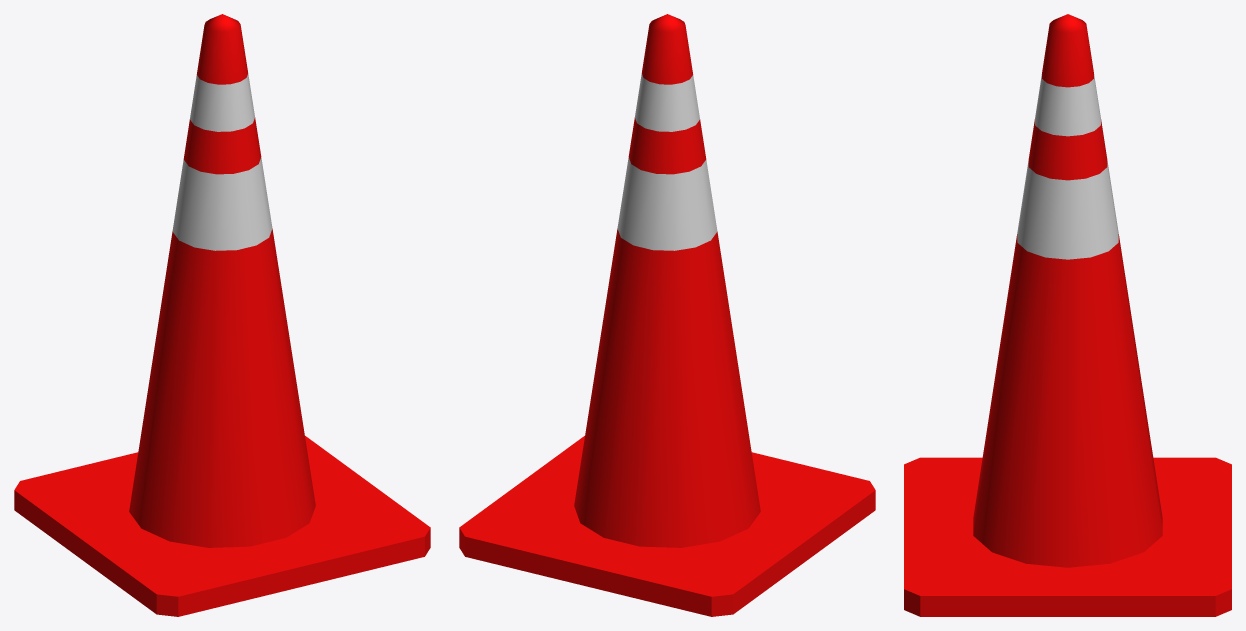
3 views of the same model, side by side, from view 1: azimuth 30°, elevation 25°; view 2: azimuth 150°, elevation 25°; view 3: azimuth 270°, elevation 25° (orthographic). The views are drawn at different scales.
Parts seen in each view (by area): view 1: kon, dai; view 2: kon, dai; view 3: kon, dai.
Part boxes in pixels (box(x1,y1,x2,y2)): kon: box(129, 14, 315, 547); dai: box(14, 436, 430, 616); kon: box(574, 14, 760, 547); dai: box(459, 436, 875, 616); kon: box(973, 14, 1162, 567); dai: box(904, 457, 1231, 616).
Bounding box in the file's own units: 50 × 89.8 × 50.
